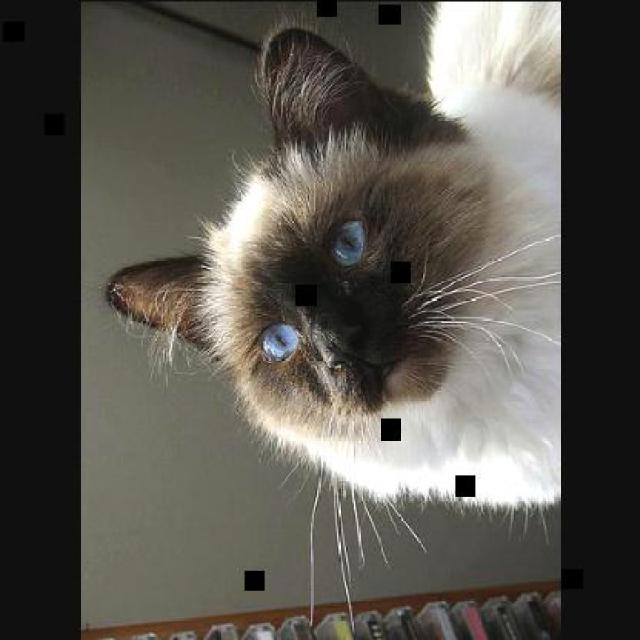unauthorized: (103, 0, 560, 629)
